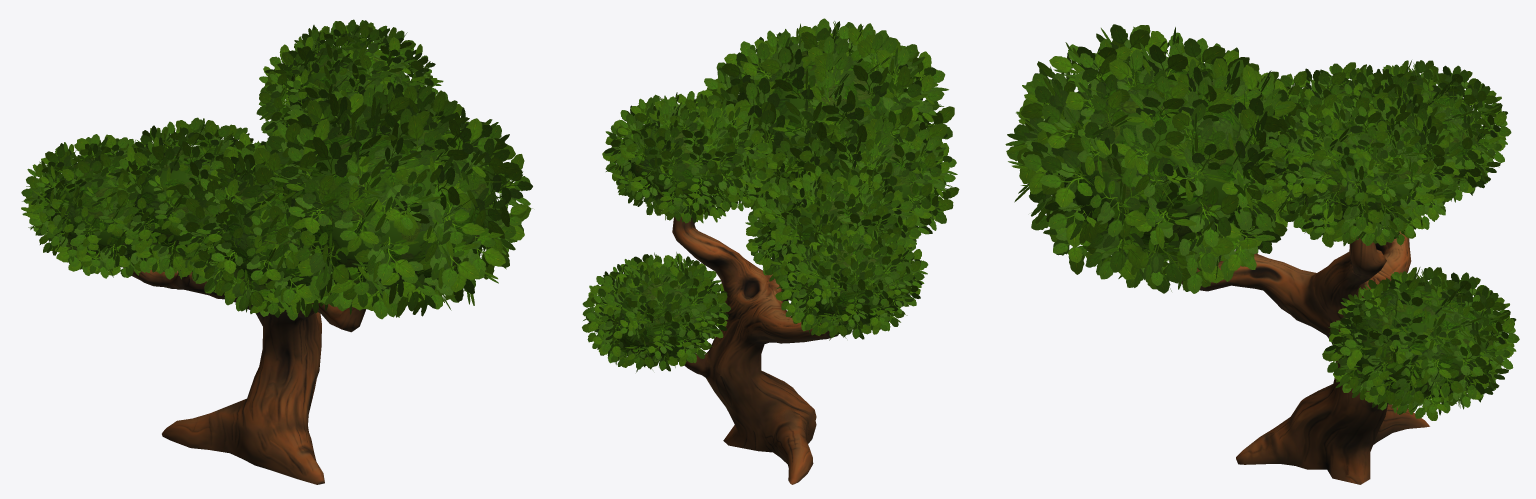
Rendered from BonzaiTree.fbx.
3 renders of one model, left to right at view 1: azimuth 30°, elevation 25°; view 2: azimuth 150°, elevation 25°; view 3: azimuth 270°, elevation 25°, orthographic. The views are drawn at different scales.
Visible parts, largest first — view 1: BonzaiTree; view 2: BonzaiTree; view 3: BonzaiTree.
Part boxes in pixels (x1,y1,x2,y2): BonzaiTree: (21, 19, 532, 484); BonzaiTree: (582, 18, 959, 484); BonzaiTree: (1005, 24, 1519, 484).
Bounding box in the file's own units: 177 × 183 × 199.
